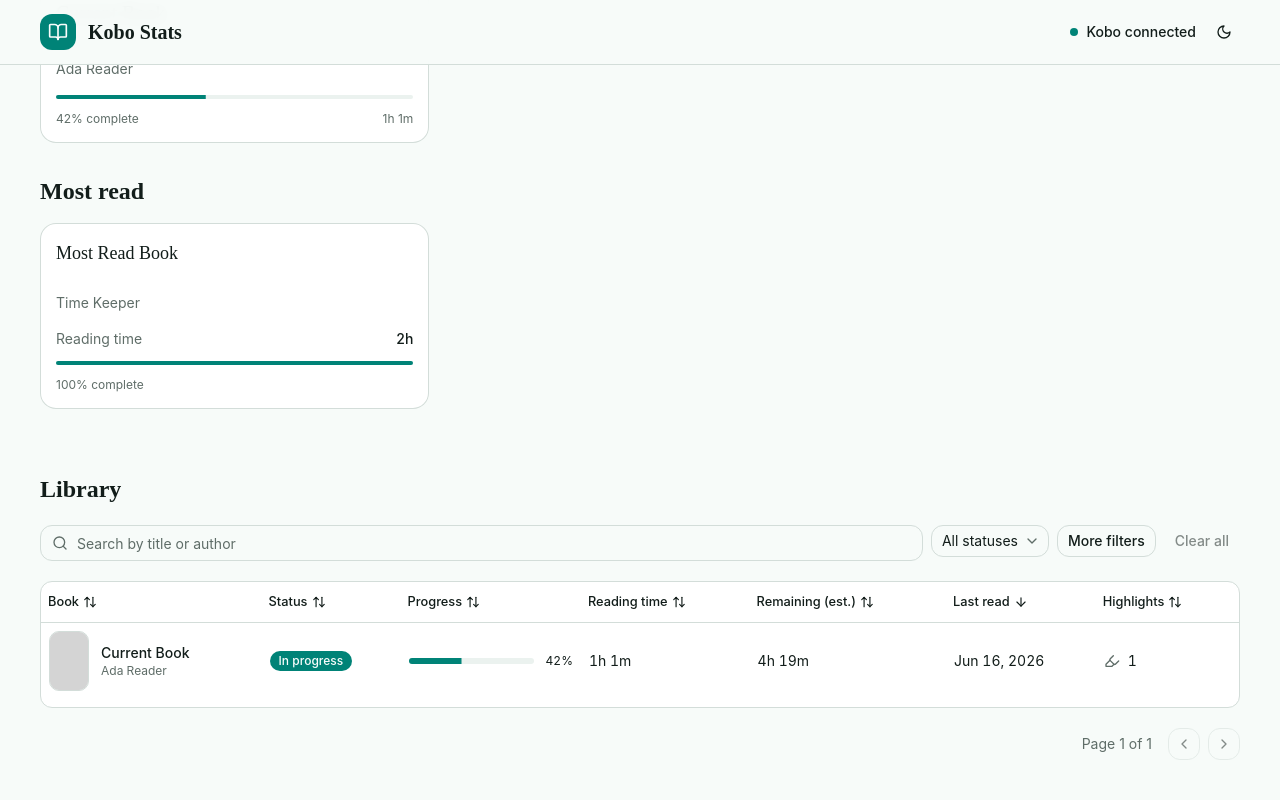
copies highlights and notes and explains clipboard failure
This screenshot has width=1280, height=800.
(page scrolled)
Click the button with aria-label "Open Current Book": point(177, 652) [101,642,254,662]
(page scrolled)
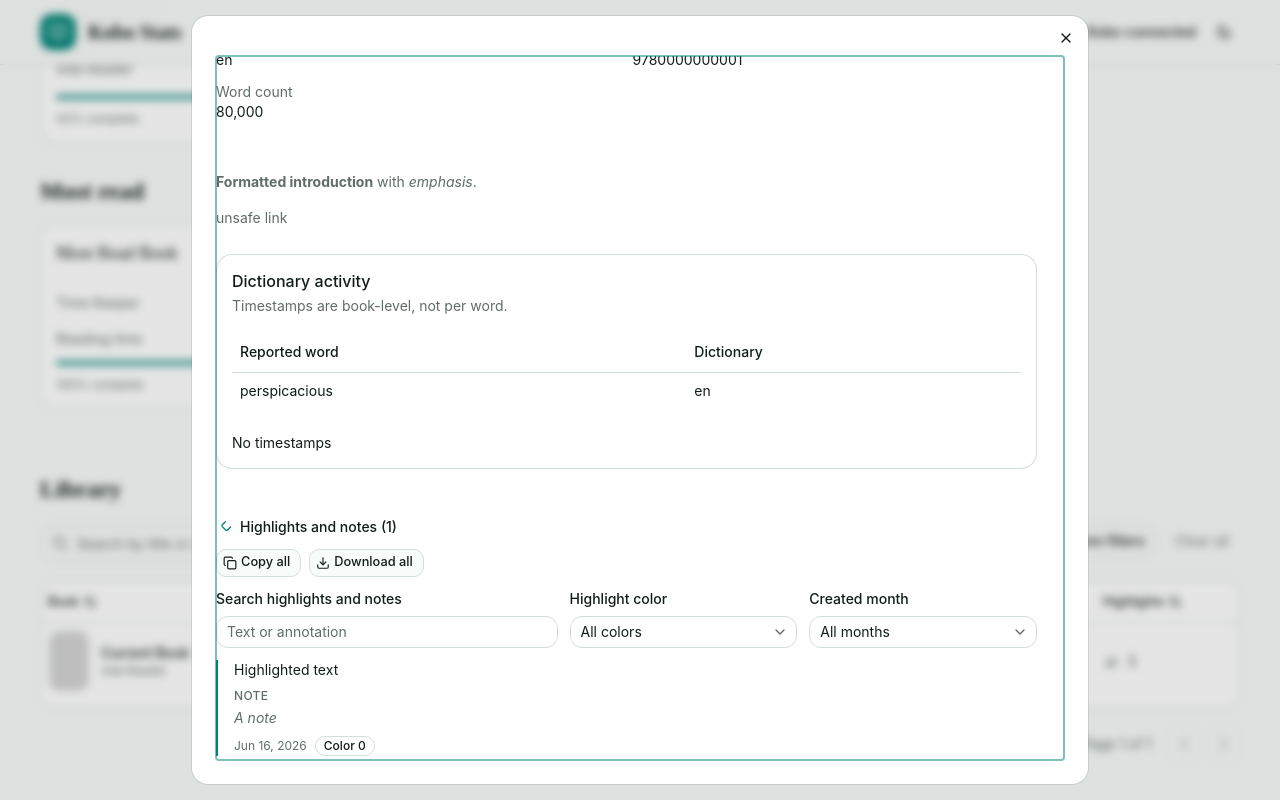
Click the button "Copy all": point(259, 562) [216,548,301,576]
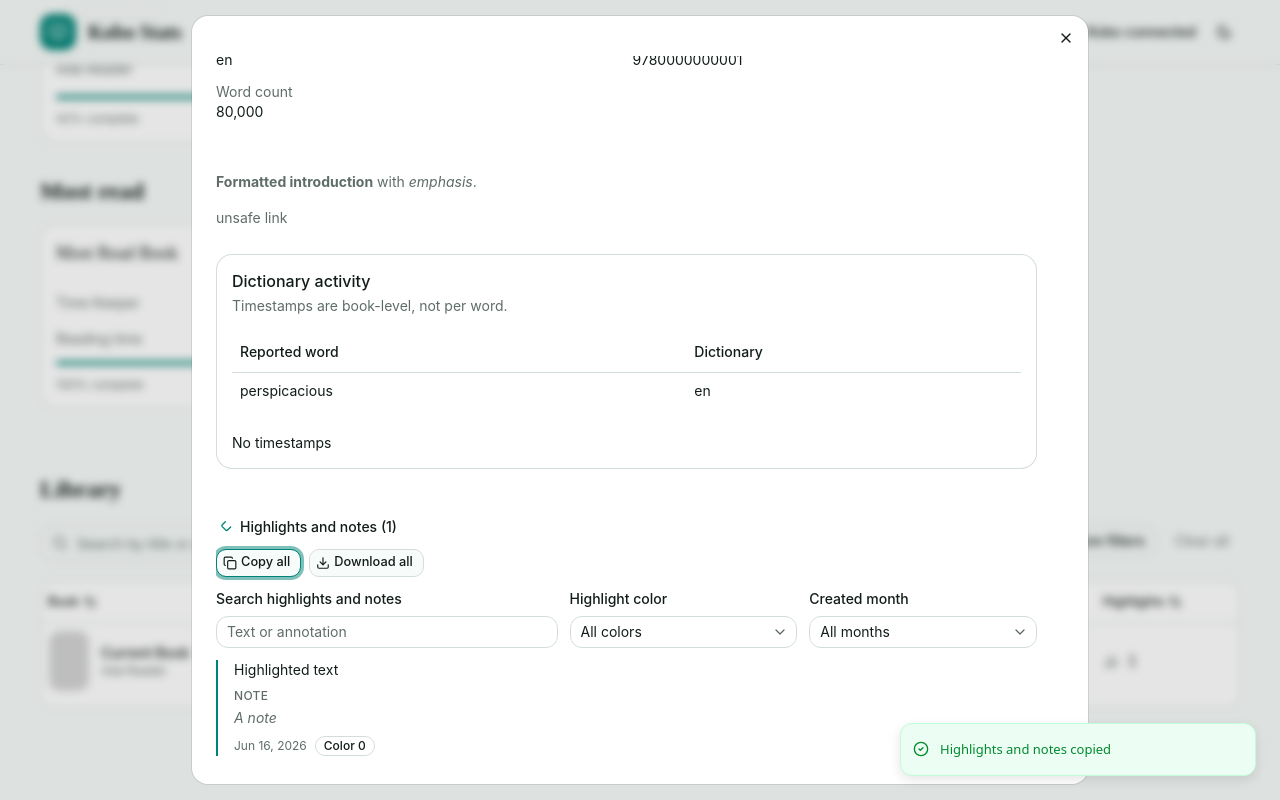
Click the button "Copy all": point(259, 562) [216,548,301,576]
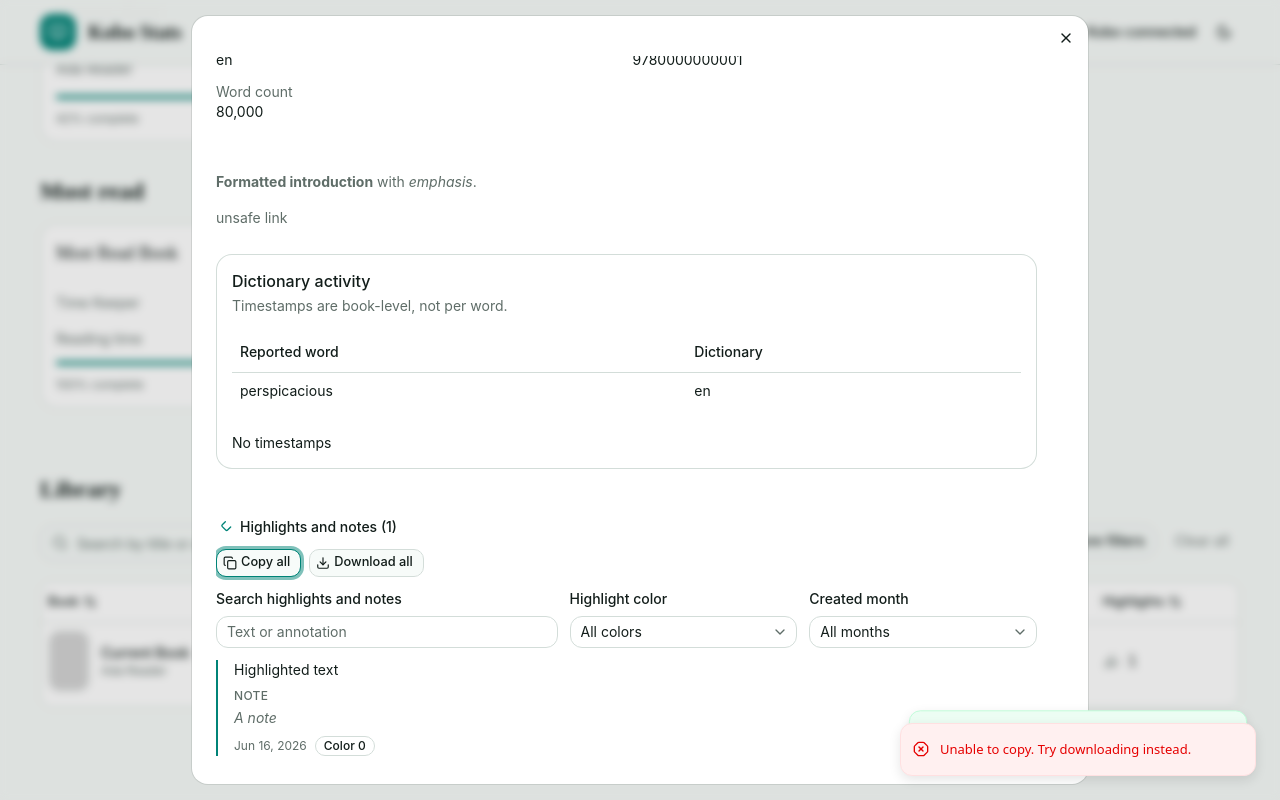
Check: the text "Unable to copy. Try downloading instead." is shown, box [940,740,1191,759]
